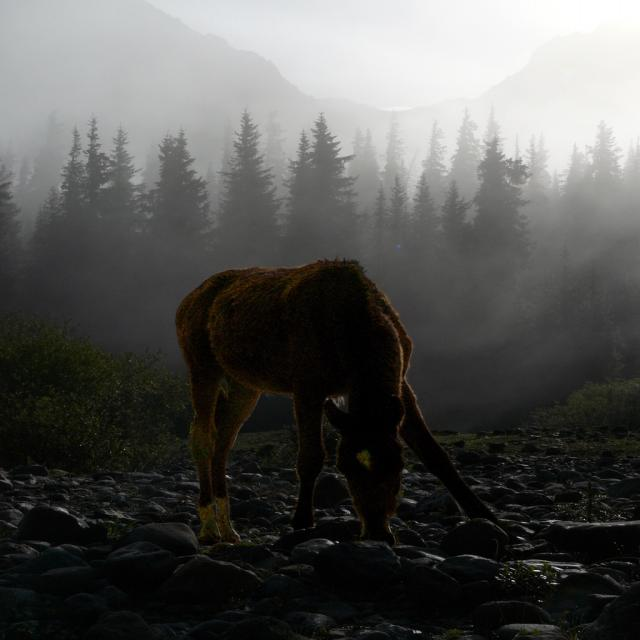Horse: (169, 257, 502, 550)
